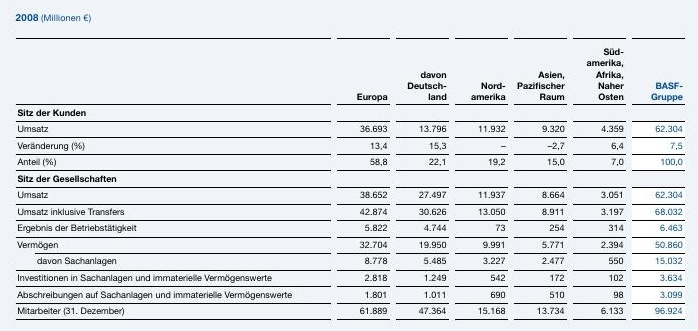table: (0, 0, 698, 331)
